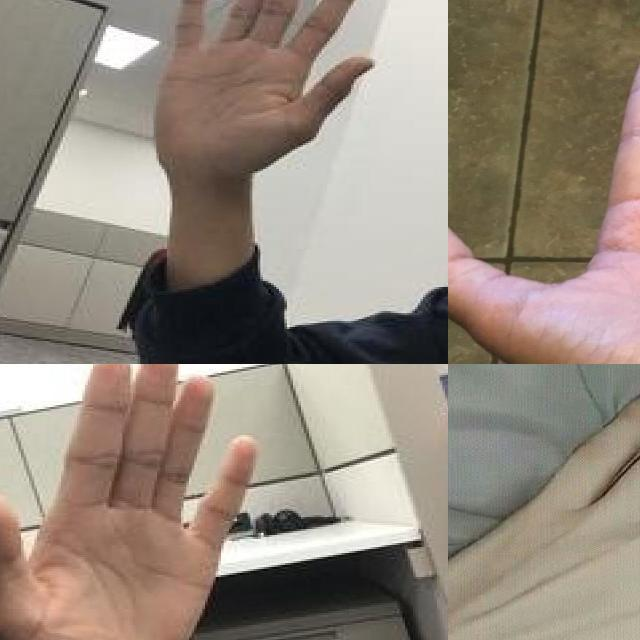hand: (0, 364, 298, 640), (448, 22, 640, 364), (448, 364, 640, 640), (148, 0, 378, 175)
